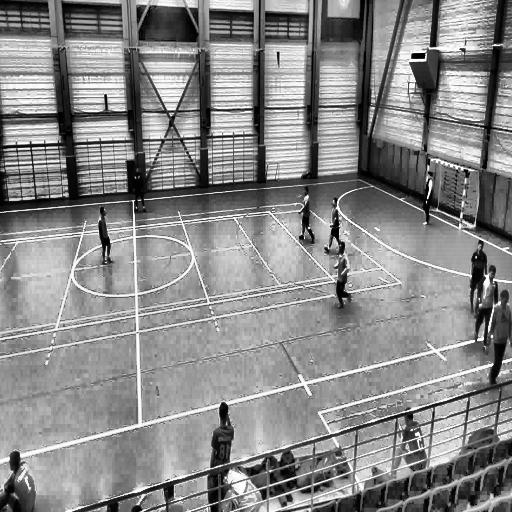player: (472, 265, 499, 356), (209, 401, 236, 490), (487, 289, 512, 385), (468, 239, 488, 312), (334, 241, 351, 310), (324, 195, 342, 257), (298, 185, 316, 244), (98, 205, 113, 263), (424, 171, 436, 225), (133, 168, 147, 214)
